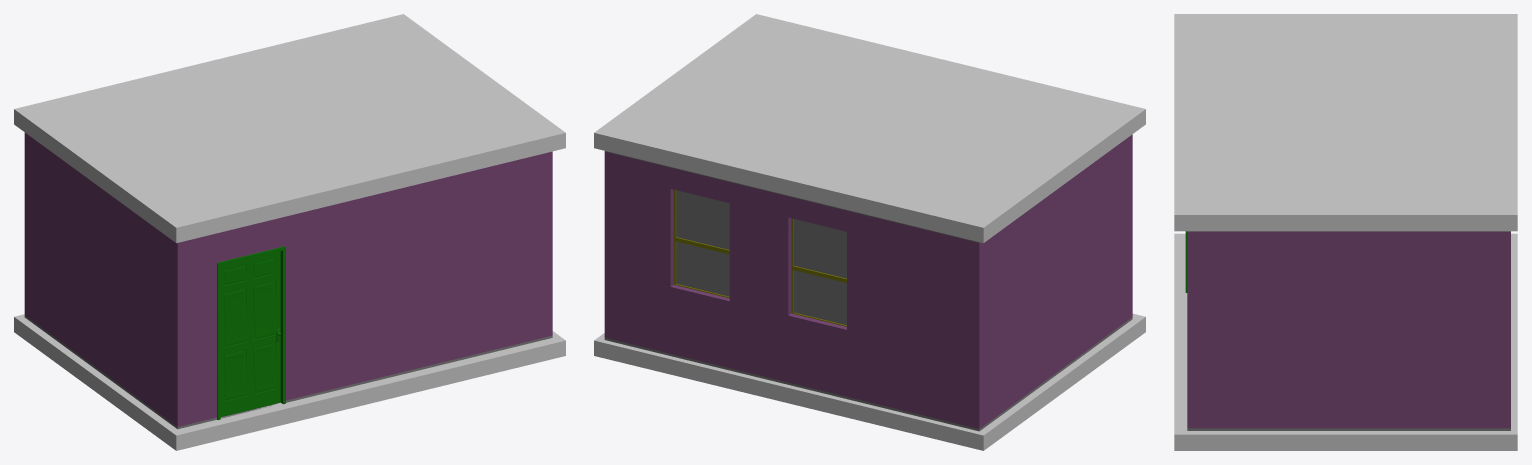
Rendered from FloorPlan206.fbx.
3 renders of one model, left to right at view 1: azimuth 30°, elevation 25°; view 2: azimuth 150°, elevation 25°; view 3: azimuth 270°, elevation 25°, orthographic. The views are drawn at different scales.
Parts seen in each view (by area): view 1: StandardWallSize, Ceiling, Floor, StandardDoor1, StandardDoorFrame1; view 2: StandardWallSize, Ceiling, Floor, WindowGlass, StandardWindow3 (2), StandardWindow3; view 3: Ceiling, StandardWallSize, Floor.
Part boxes in pixels (x1=…): StandardWallSize: x1=24, y1=132, x2=552, y2=429; Ceiling: x1=14, y1=14, x2=565, y2=243; Floor: x1=14, y1=314, x2=565, y2=450; StandardDoor1: x1=220, y1=251, x2=280, y2=416; StandardDoorFrame1: x1=217, y1=246, x2=285, y2=419; StandardWallSize: x1=604, y1=134, x2=1132, y2=431; Ceiling: x1=594, y1=14, x2=1145, y2=243; Floor: x1=594, y1=313, x2=1145, y2=450; WindowGlass: x1=676, y1=190, x2=846, y2=325; StandardWindow3 (2): x1=673, y1=189, x2=729, y2=298; StandardWindow3: x1=791, y1=218, x2=846, y2=326; Ceiling: x1=1174, y1=14, x2=1517, y2=231; StandardWallSize: x1=1187, y1=231, x2=1510, y2=430; Floor: x1=1174, y1=233, x2=1517, y2=450.
Size of the model in its own units: 530 by 290 by 382.
